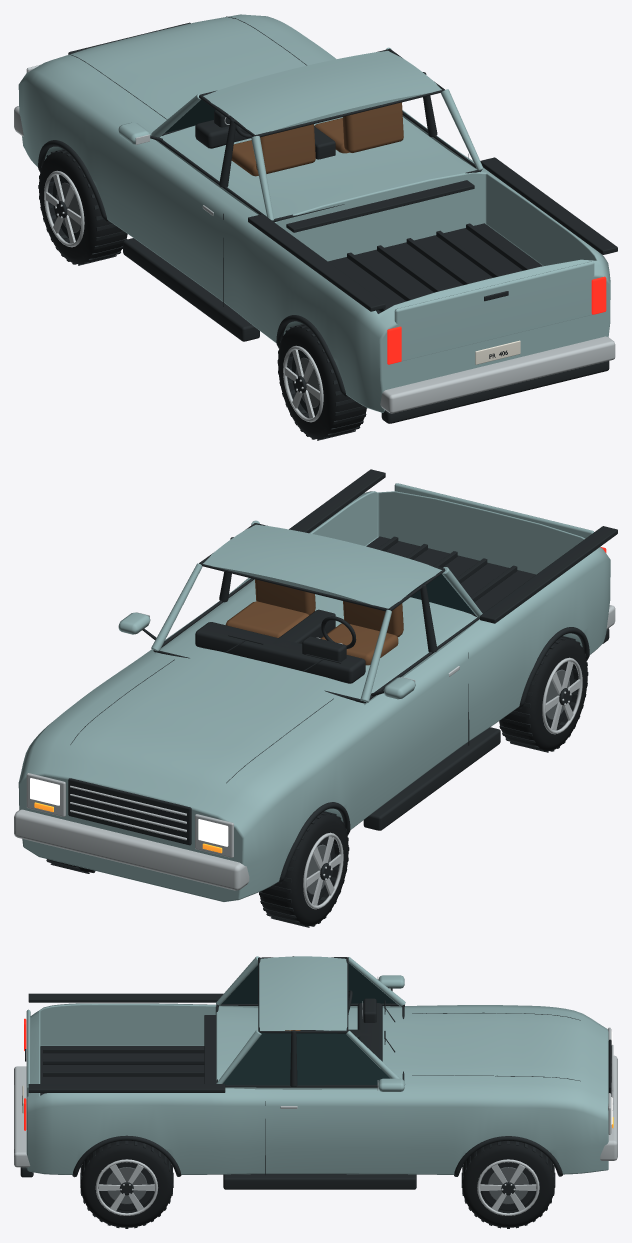
The model's file is traffic-pickup.glb.
The picture shows the model from 3 angles, top to bottom: view 1: azimuth 30°, elevation 25°; view 2: azimuth 150°, elevation 25°; view 3: azimuth 270°, elevation 25°; orthographic projection. The views are drawn at different scales.
Parts seen in each view (by area): view 1: Traffic enamel.003, Traffic polymer.003, Traffic satin alloy.003, Traffic tire rubber.003, Traffic upholstery.003, Traffic ruby lamps.003, Dark brake steel.003, Traffic smoked glazing.003, Traffic registration.003; view 2: Traffic enamel.003, Traffic polymer.003, Traffic satin alloy.003, Traffic tire rubber.003, Traffic upholstery.003, Traffic ivory lamps.003, Traffic smoked glazing.003, Dark brake steel.003; view 3: Traffic enamel.003, Traffic polymer.003, Traffic smoked glazing.003, Traffic tire rubber.003, Traffic satin alloy.003, Dark brake steel.003.
Part boxes in pixels (x1,y1,x2,y2): Traffic enamel.003: (18,14,610,412); Traffic polymer.003: (38,16,617,440); Traffic satin alloy.003: (14,65,615,422); Traffic tire rubber.003: (39,150,366,438); Traffic upholstery.003: (231,102,403,176); Traffic ruby lamps.003: (387,276,606,364); Dark brake steel.003: (56,182,319,407); Traffic smoked glazing.003: (165,99,219,132); Traffic registration.003: (475,340,520,364); Traffic enamel.003: (18,483,610,901); Traffic polymer.003: (46,469,617,927); Traffic satin alloy.003: (14,605,615,909); Traffic tire rubber.003: (47,636,587,925); Traffic upholstery.003: (225,579,403,665); Traffic ivory lamps.003: (30,778,228,846); Traffic smoked glazing.003: (406,574,474,614); Dark brake steel.003: (306,669,569,894); Traffic enamel.003: (26,956,608,1174); Traffic polymer.003: (20,956,611,1228); Traffic smoked glazing.003: (222,963,396,1085); Traffic tire rubber.003: (80,1140,554,1227); Traffic satin alloy.003: (14,977,617,1215); Dark brake steel.003: (106,1167,528,1204).
Size of the model in its own units: 2.2 by 1.76 by 5.07.
